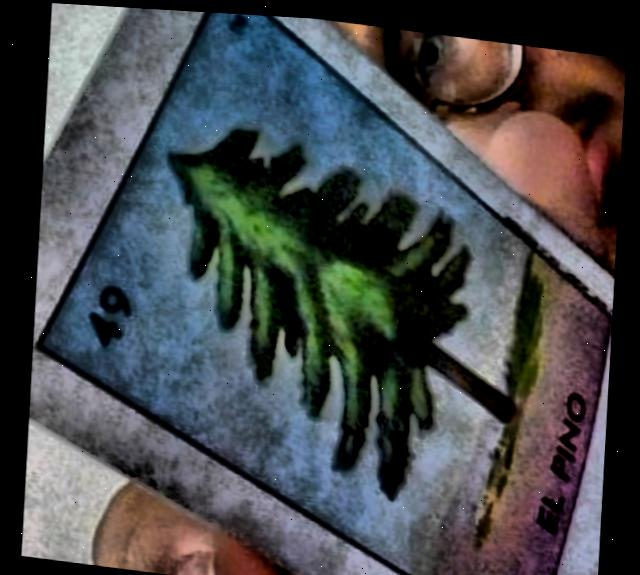El Pino: (41, 9, 611, 575)
